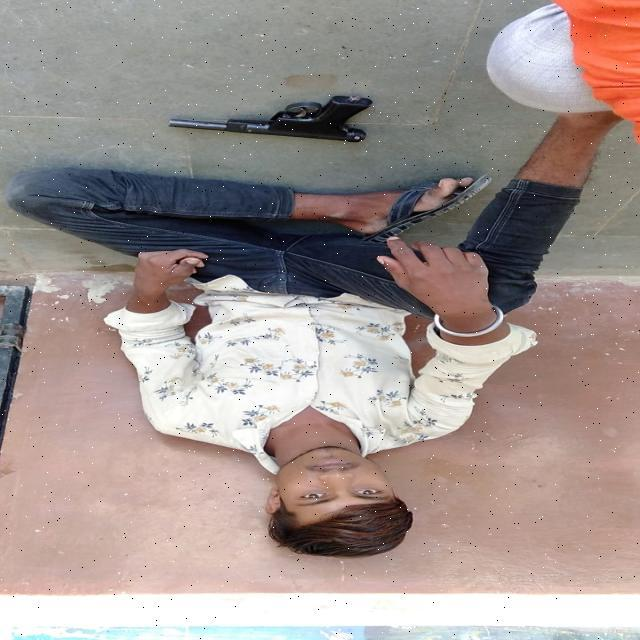gun: (160, 90, 380, 143)
